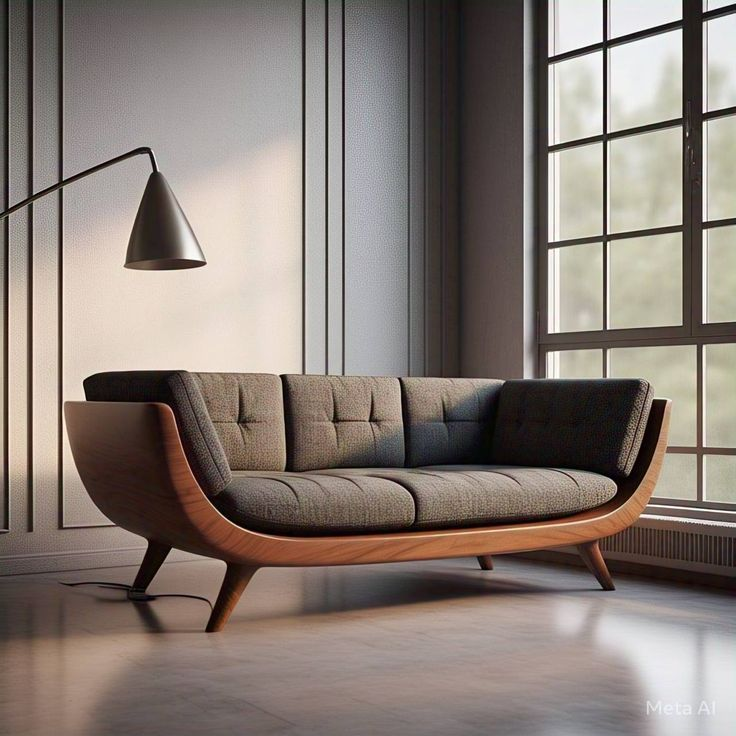3seatersofa: (64, 371, 670, 631)
backrest: (195, 373, 501, 470)
base: (65, 400, 670, 566)
leftarmrest: (490, 379, 652, 479)
leg: (207, 563, 257, 632), (128, 542, 170, 599), (577, 542, 613, 589), (478, 555, 491, 568)
rightarmrest: (85, 370, 230, 496)
seat: (215, 465, 615, 536)
